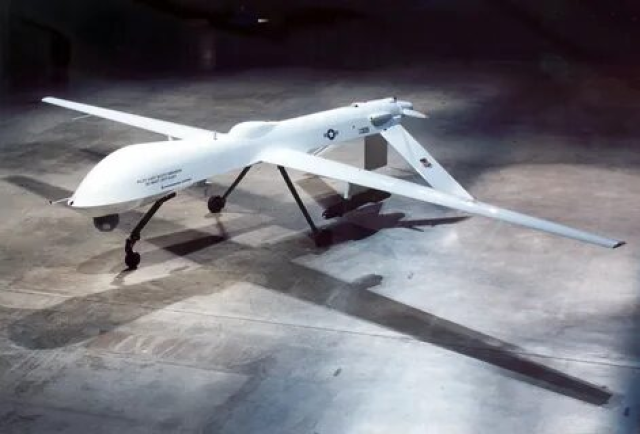military drone: (40, 95, 627, 268)
